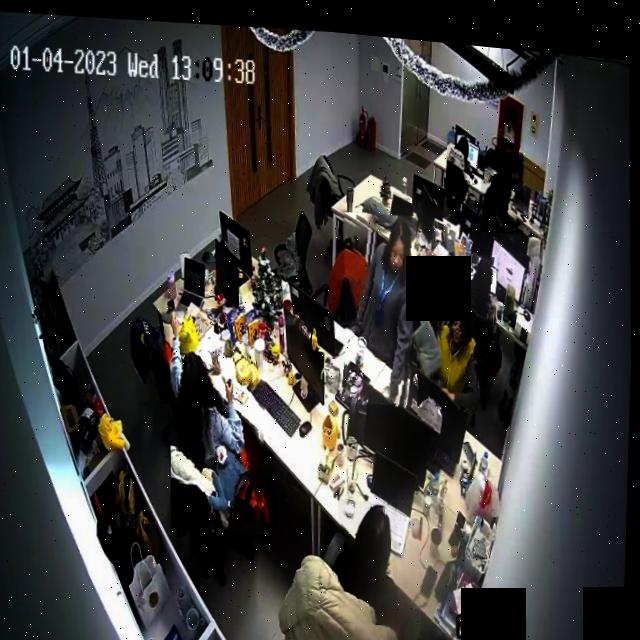person: (166, 296, 277, 532), (341, 202, 424, 400), (337, 490, 403, 619), (428, 292, 486, 403), (479, 139, 526, 224), (463, 242, 500, 312), (446, 124, 472, 175)
